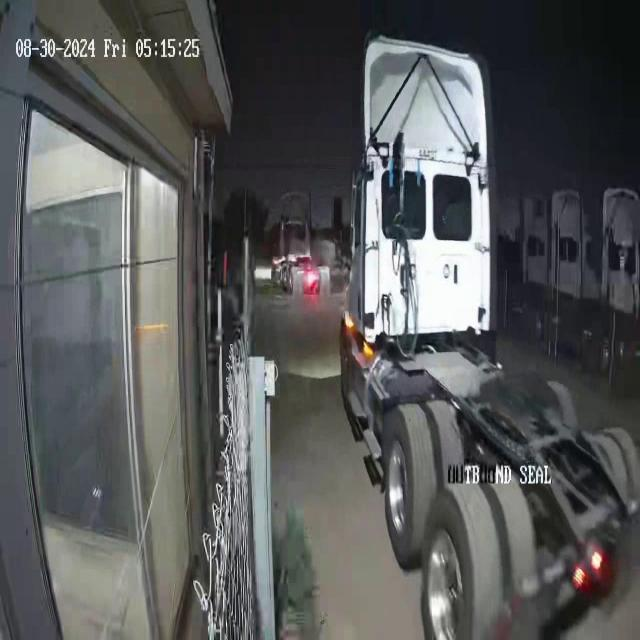TRUCK_OUT: (338, 30, 639, 638)
